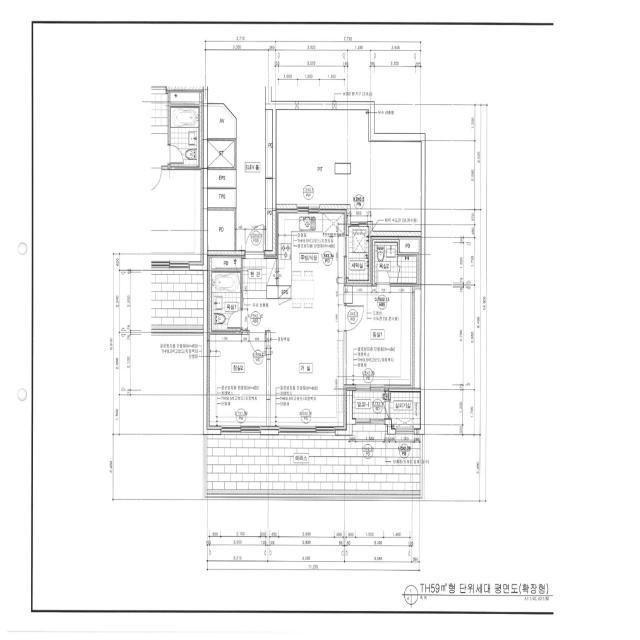space_balconi: (353, 392, 388, 418)
space_bedroom: (347, 283, 415, 388), (207, 334, 267, 429)
space_elevator_hall: (208, 73, 265, 250)
space_front: (243, 256, 276, 299)
space_kitchen: (276, 209, 347, 299)
space_living_room: (243, 299, 347, 429)
space_other: (276, 109, 421, 231), (349, 227, 369, 280), (208, 210, 234, 250), (208, 104, 236, 138), (208, 141, 234, 167), (415, 286, 421, 388), (208, 188, 236, 208), (208, 170, 236, 188), (266, 179, 272, 251), (266, 110, 272, 178), (212, 256, 241, 269), (400, 236, 421, 253), (278, 286, 291, 298)
space_outdoor_room: (391, 392, 420, 429)
space_toilet: (375, 243, 417, 283), (212, 272, 240, 331)
